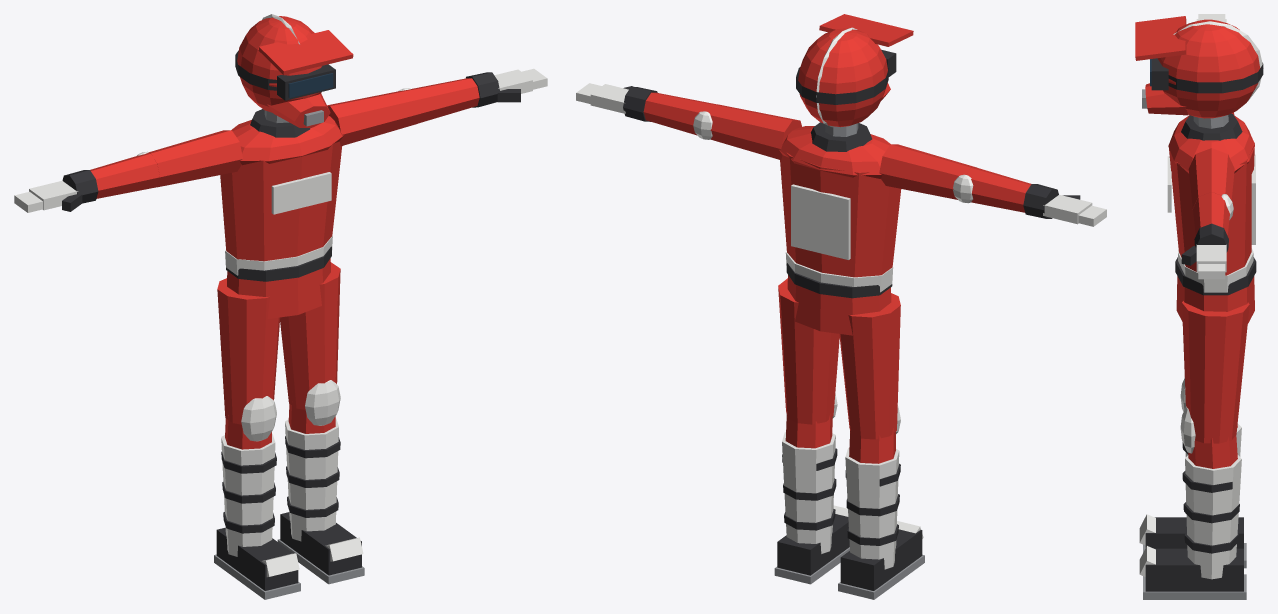
File: mx_rider_tpose.fbx
3 views of the same model, side by side, from view 1: azimuth 30°, elevation 25°; view 2: azimuth 150°, elevation 25°; view 3: azimuth 270°, elevation 25° (orthographic).
Visible parts, largest first — view 1: MXRider; view 2: MXRider; view 3: MXRider.
Part boxes in pixels (bbox=[...]): MXRider: bbox=[14, 14, 547, 599]; MXRider: bbox=[576, 14, 1106, 599]; MXRider: bbox=[1135, 14, 1263, 599].
Size of the model in its own units: 1.8 by 1.8 by 0.3782.
